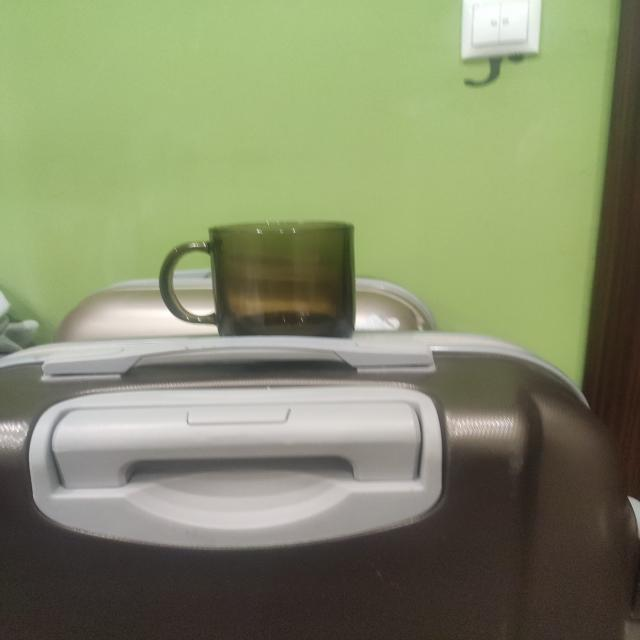cups: (163, 220, 356, 336)
